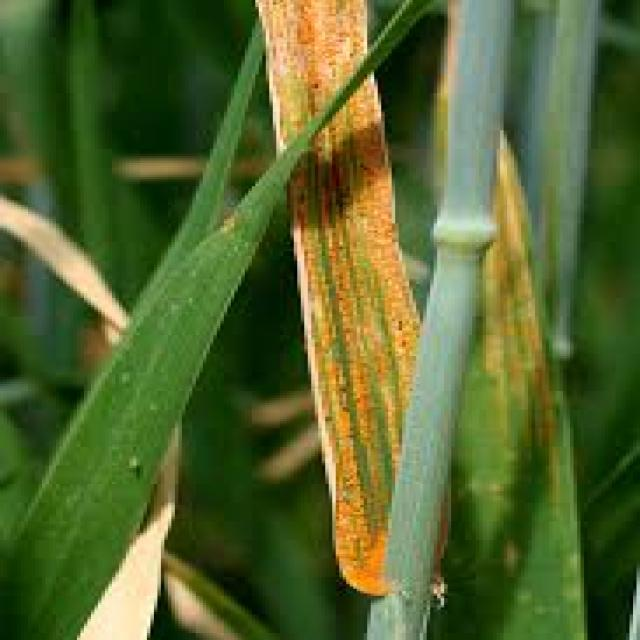leaf_blight: (294, 77, 416, 593), (255, 0, 364, 144)
